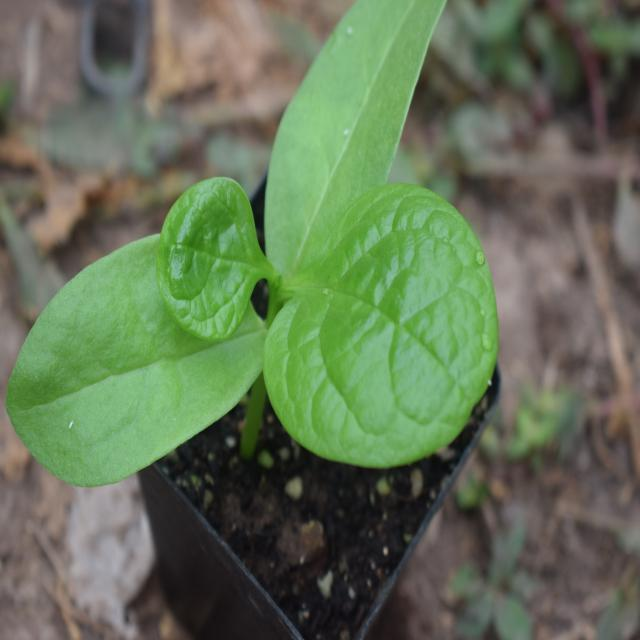Ceylon spinach: (26, 18, 506, 510)
